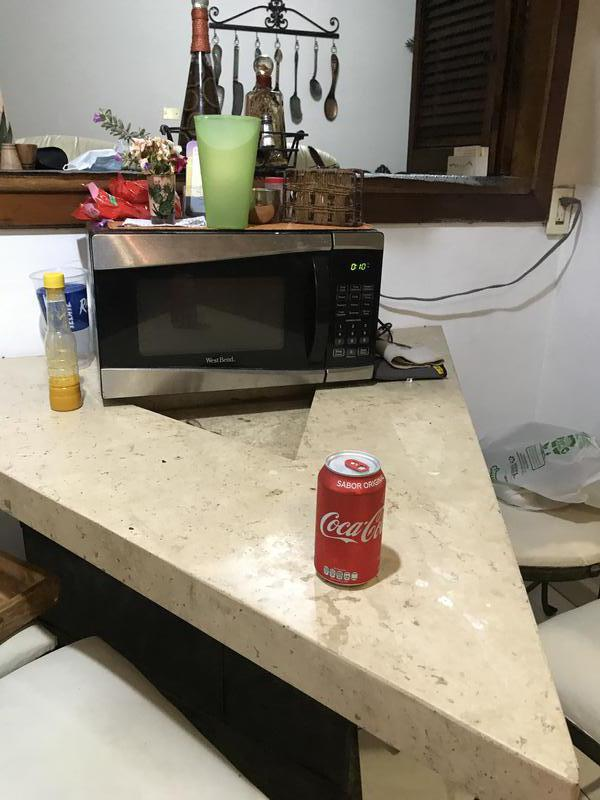coca_cola: (314, 452, 389, 592)
